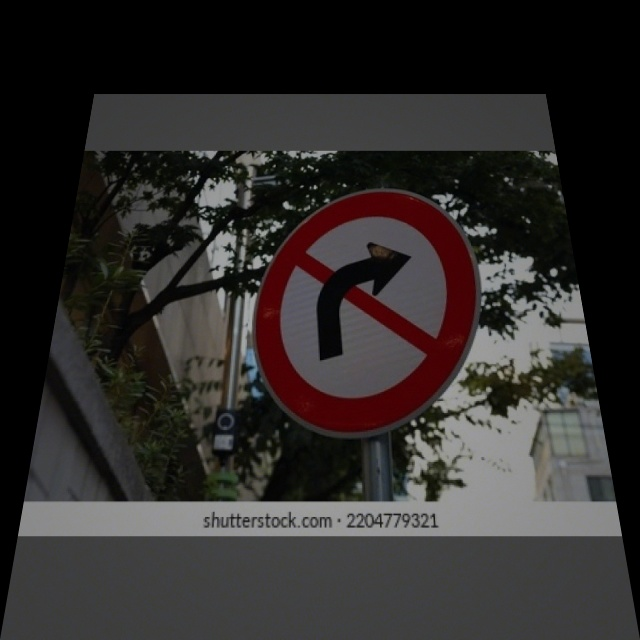Right_Turn_Prohibited: (245, 192, 497, 434)
